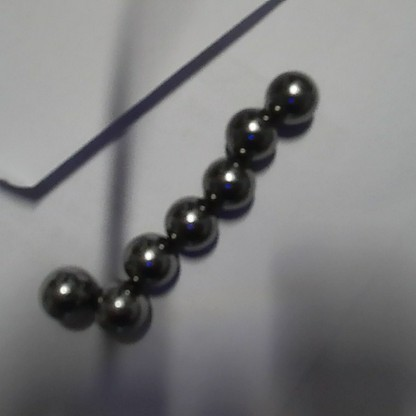ironball: (39, 267, 95, 324), (163, 195, 218, 252), (266, 69, 319, 125), (223, 106, 277, 160), (99, 284, 152, 338), (120, 232, 174, 285), (202, 158, 254, 211)
